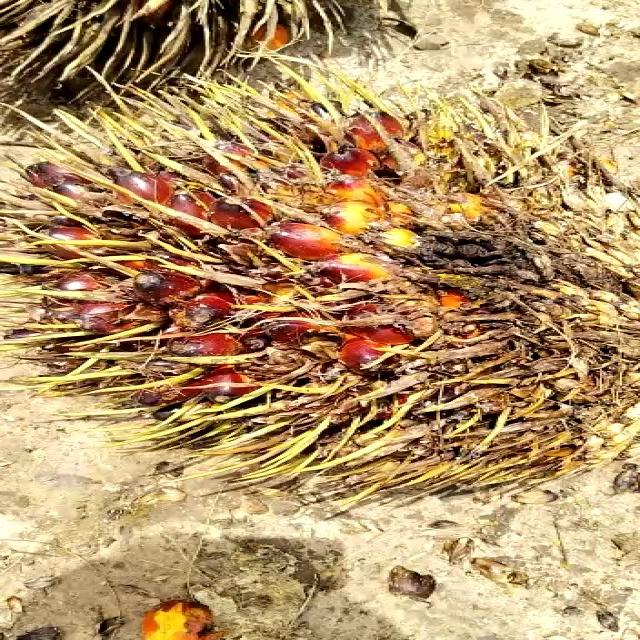palm oil: (0, 86, 640, 514)
